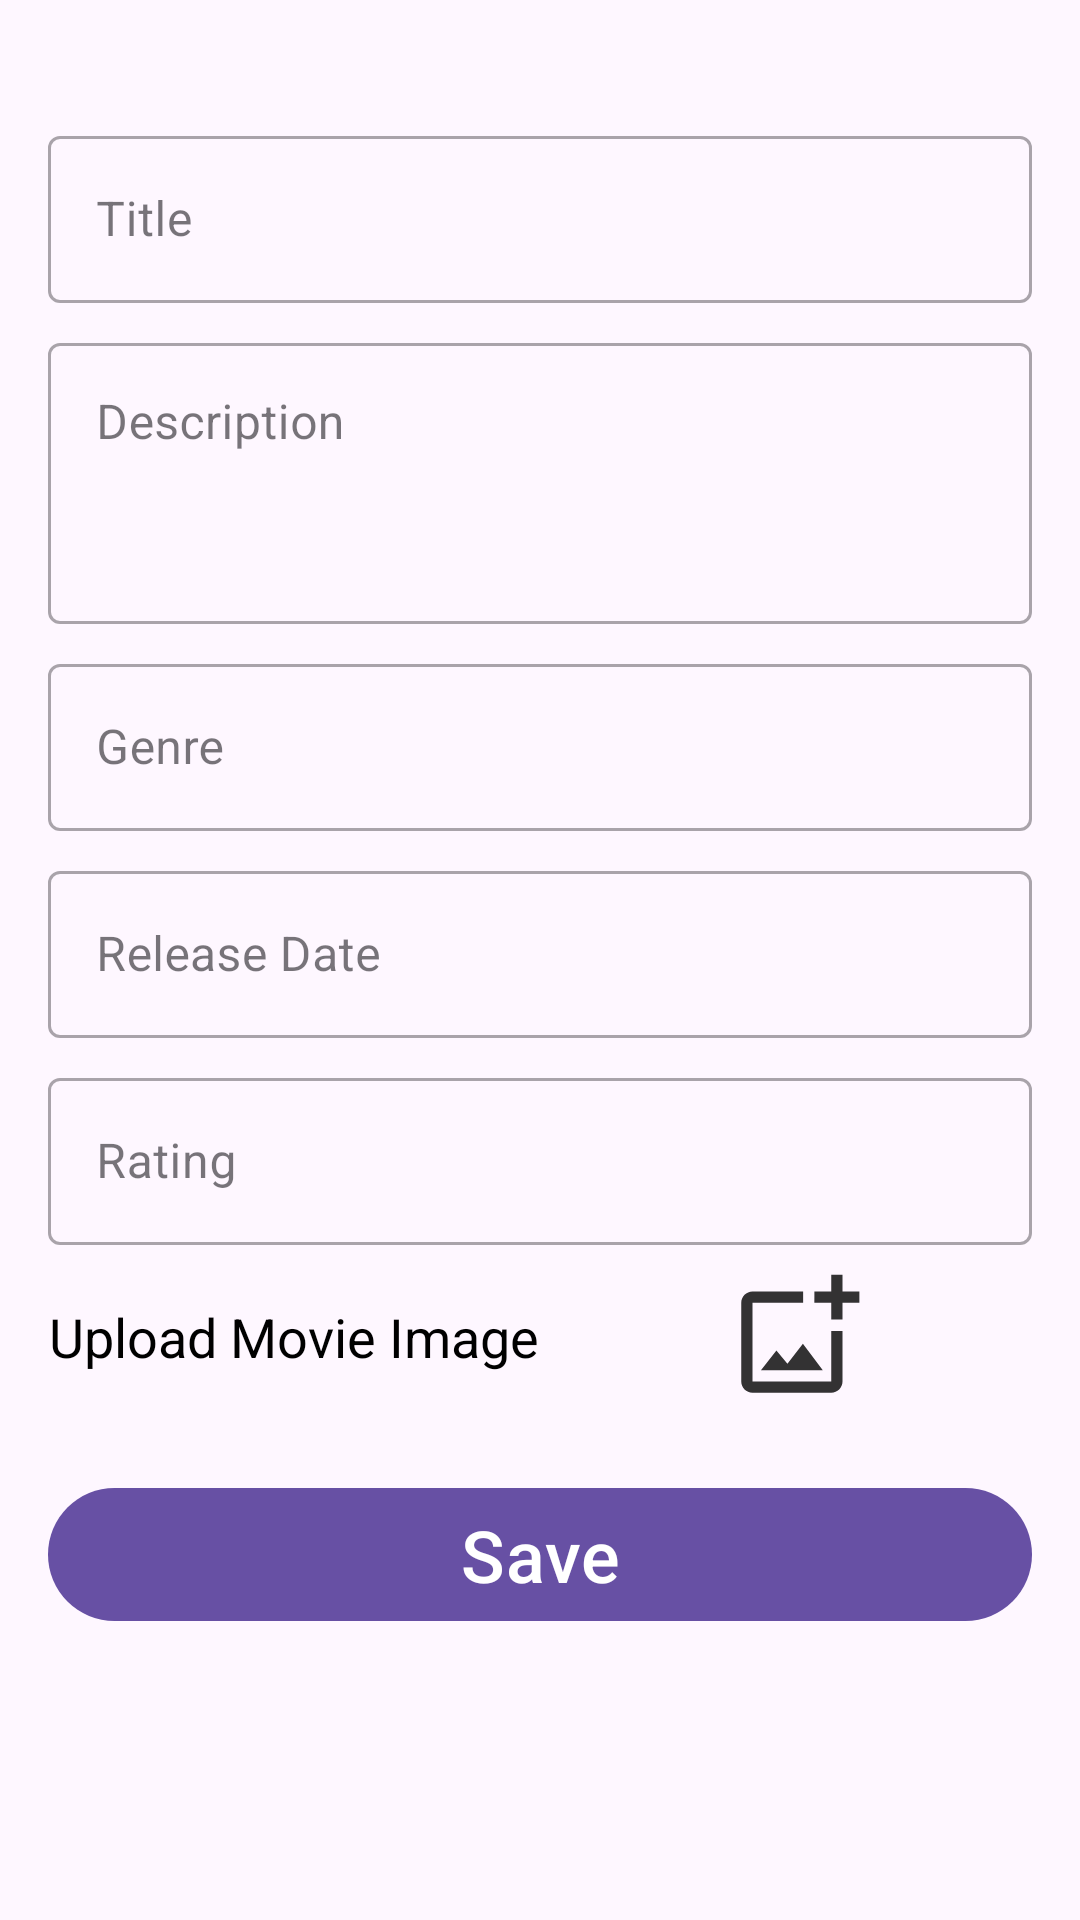

Where icons sit on this 1080 x 1920 app screen, as [x1,y1,x2,y2]:
add photo: [741,1274,860,1393]
